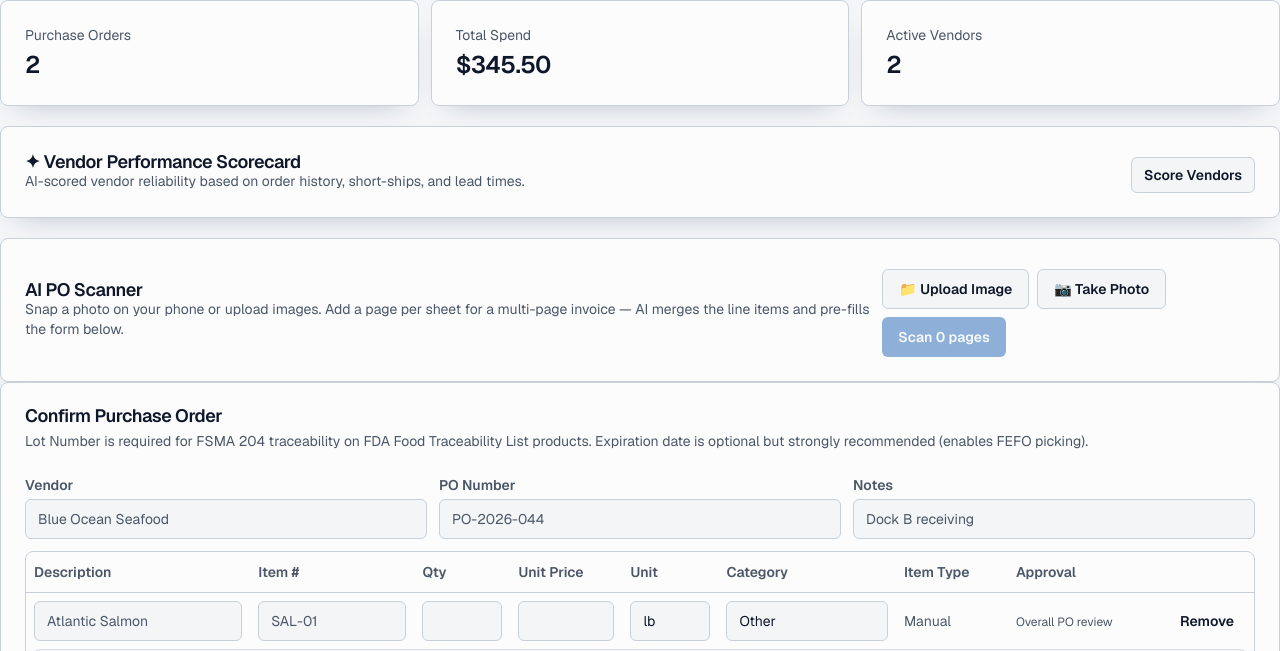
Test: PurchasingPage › requires a lot number before confirming mollusk items
Type "Fresh Clams" into the field with placeholder "Atlantic Salmon".
click(138, 620); type("Fresh Clams")  # box x1=34 y1=600 x2=242 y2=640
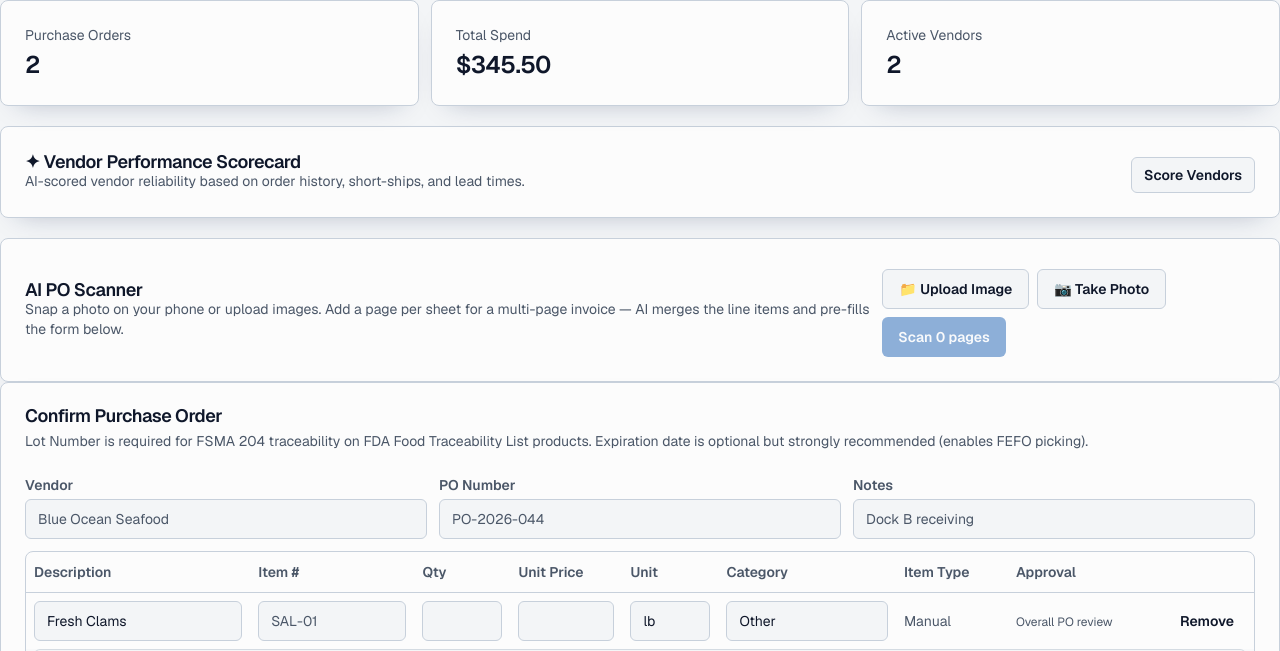
Replace the text in the 7th field with "Mollusks" at (807, 620), box x1=726 y1=600 x2=888 y2=640
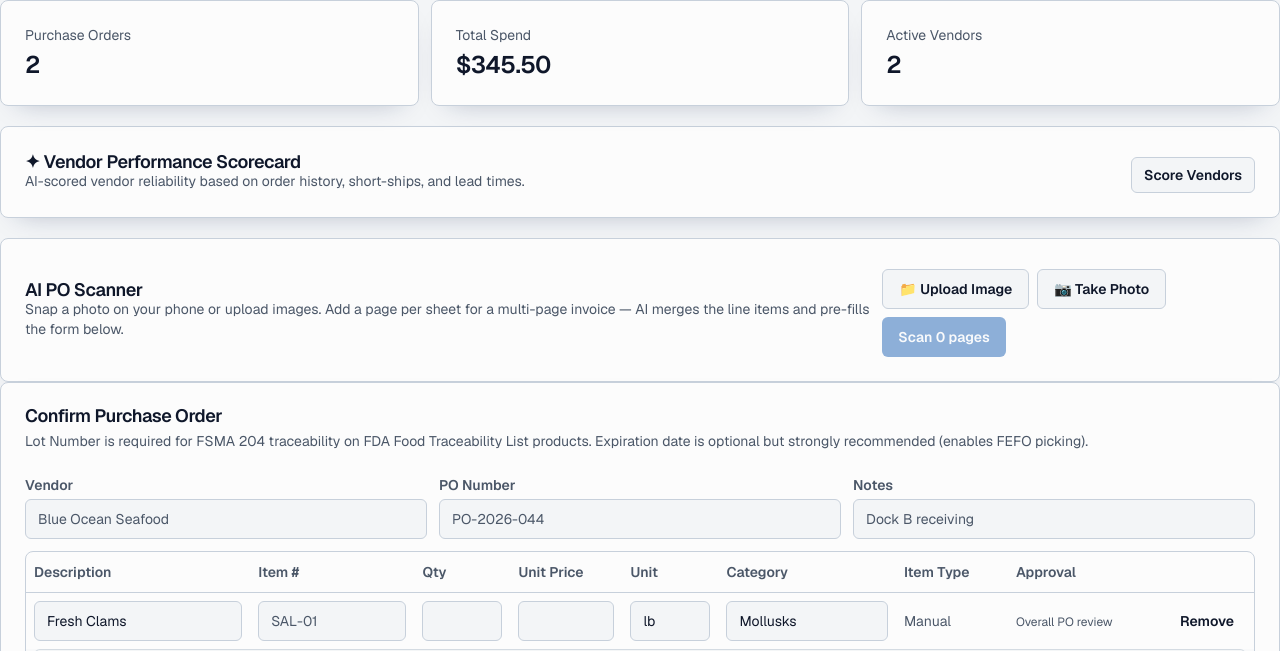
Type "5" into the 1st number field.
click(462, 620); type("5")  # box x1=422 y1=600 x2=502 y2=640
(page scrolled)
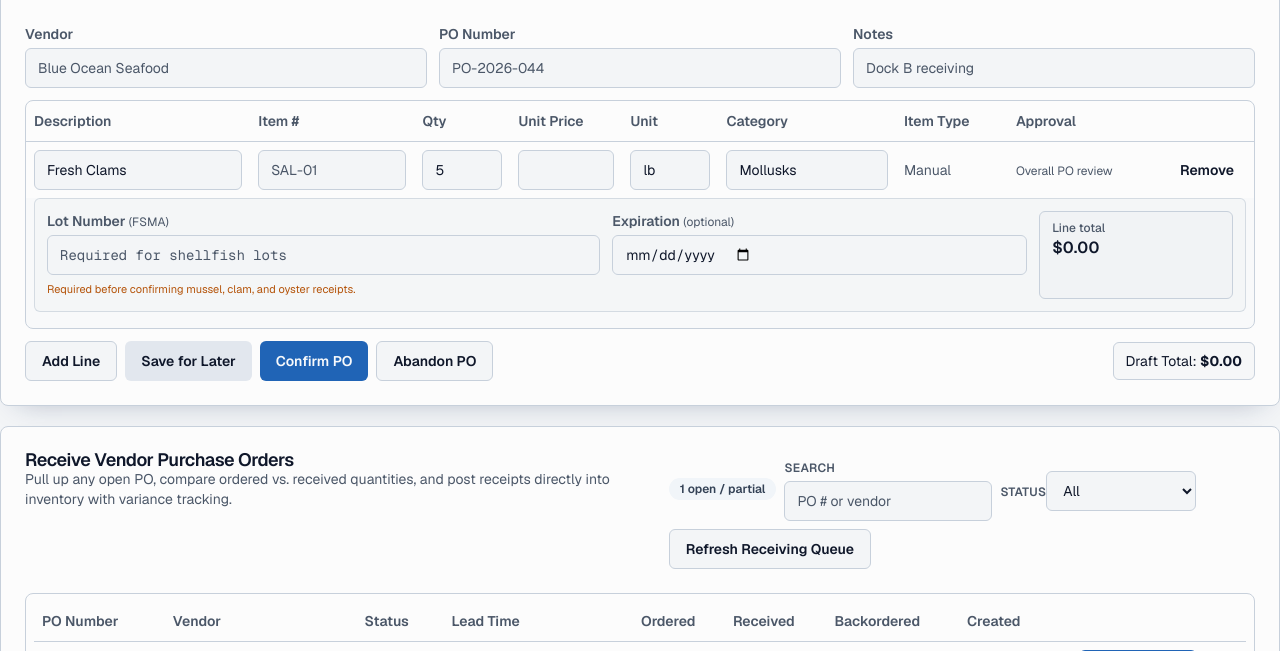
Click the button "Confirm PO".
click(314, 360)  # box x1=260 y1=340 x2=368 y2=380
(page scrolled)
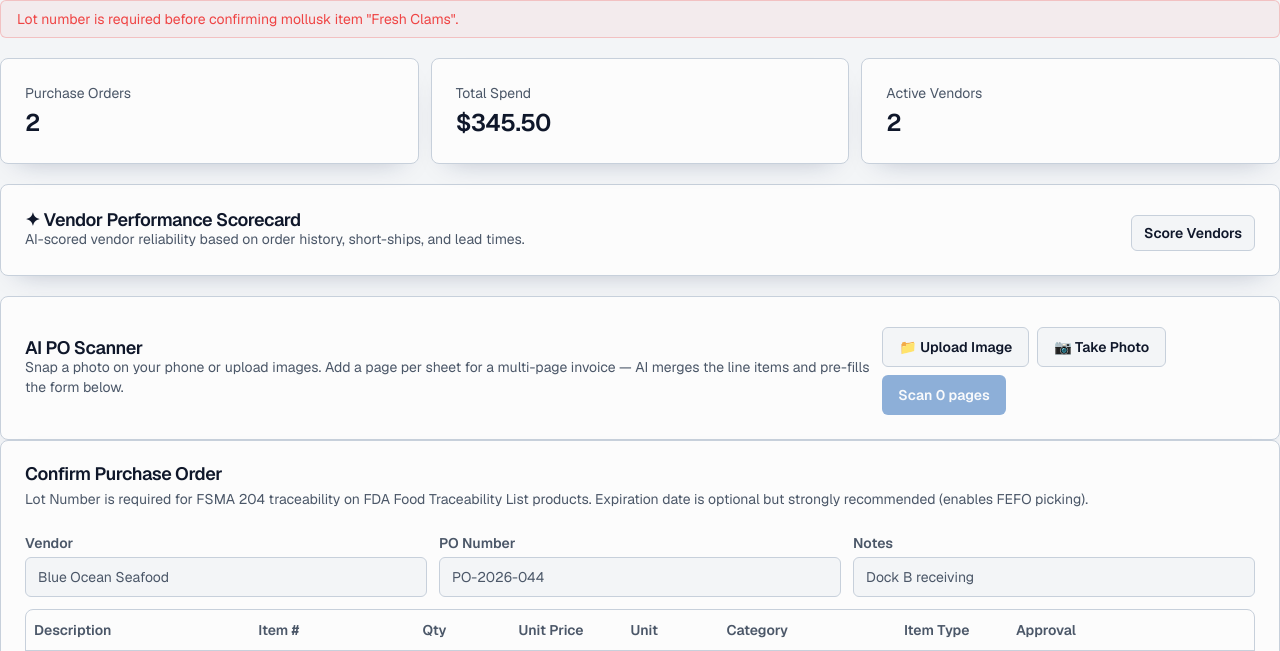
Check: the text "Lot number is required before confirming mollusk item \"Fresh Clams\"." is shown, box x1=0 y1=0 x2=1279 y2=38
